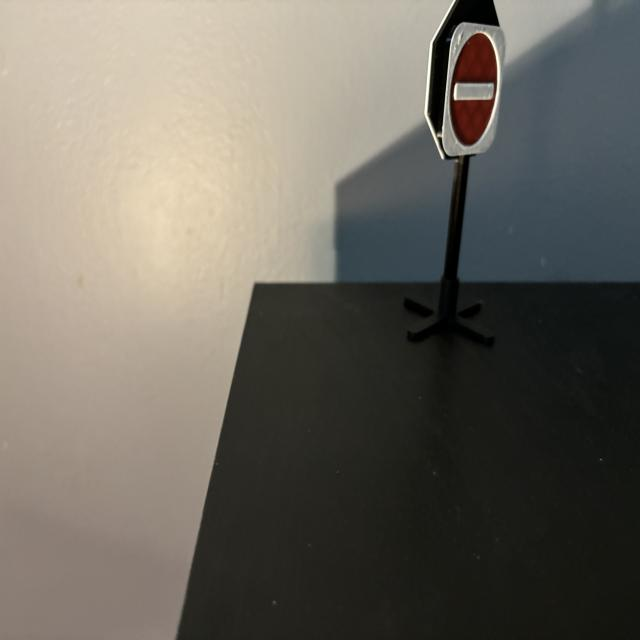sign_noentry: (444, 24, 506, 157)
